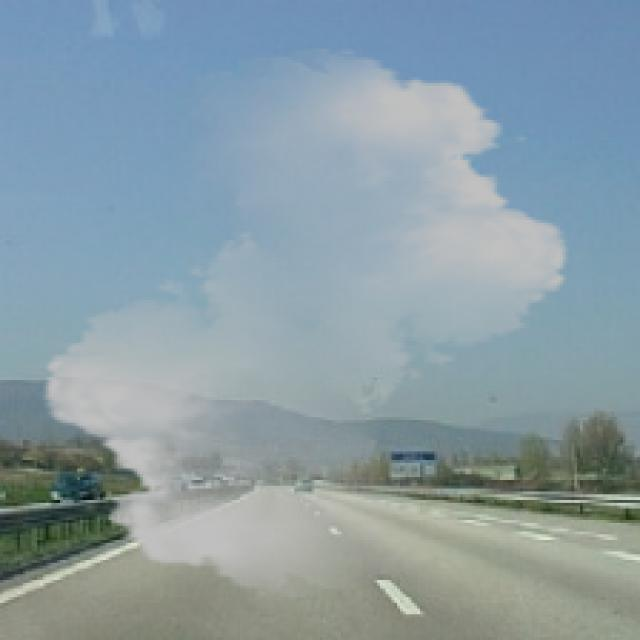Smoke: (26, 48, 586, 598)
